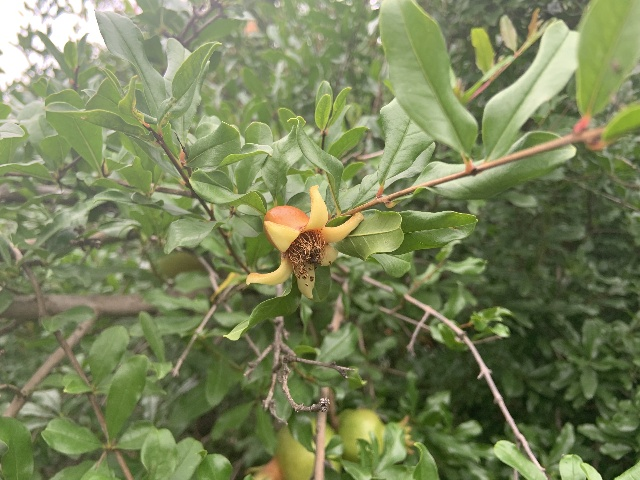early-fruit: (245, 184, 365, 301)
mid-growth: (245, 415, 340, 480), (339, 408, 416, 463)
